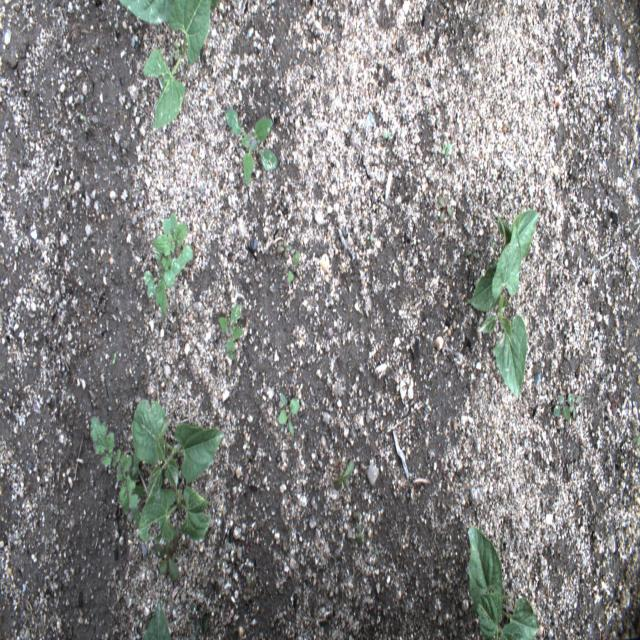crop: (466, 204, 540, 399), (132, 400, 224, 503), (143, 0, 211, 128), (468, 524, 540, 640), (137, 484, 211, 543), (117, 0, 221, 24), (141, 600, 171, 639)
weed: (90, 416, 142, 527), (224, 107, 279, 186), (142, 244, 182, 320), (152, 210, 194, 270), (152, 524, 183, 585), (218, 301, 244, 362), (122, 446, 146, 498), (279, 393, 299, 437), (331, 458, 357, 491), (552, 394, 576, 422), (189, 603, 209, 636), (436, 192, 454, 228), (567, 390, 582, 419), (288, 248, 300, 284), (606, 390, 623, 415), (243, 573, 256, 602), (276, 239, 294, 259), (333, 457, 348, 478), (356, 510, 364, 548), (465, 244, 480, 263), (163, 140, 175, 157), (441, 142, 452, 158), (430, 248, 439, 265), (180, 540, 188, 556), (112, 350, 118, 366), (368, 234, 374, 248), (114, 22, 120, 35), (632, 436, 640, 444), (490, 240, 497, 248), (79, 114, 86, 122)
